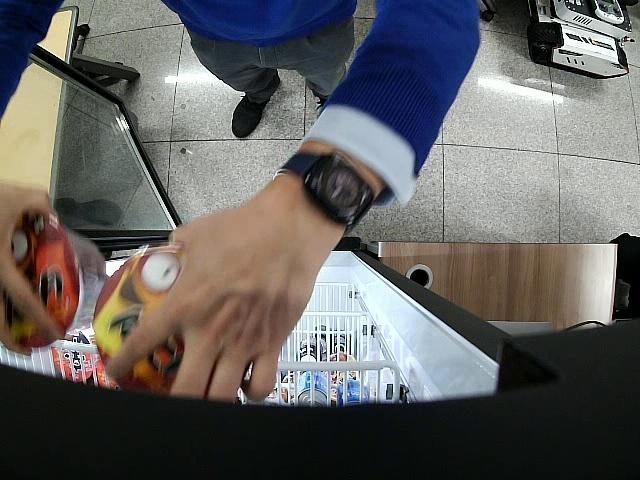05_nuguri_L: (1, 206, 106, 346), (93, 246, 185, 396)
